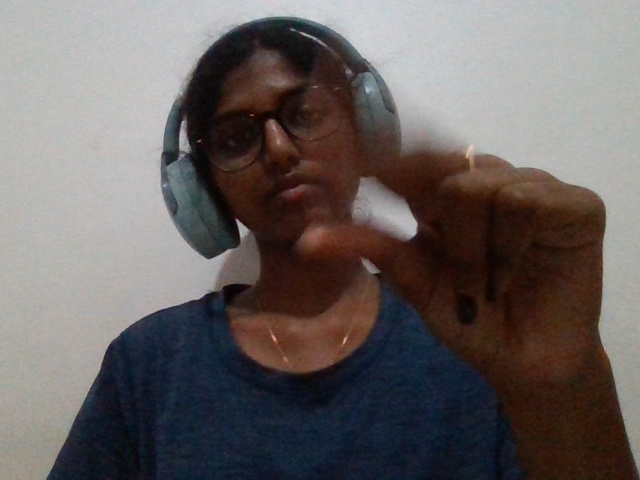No: (281, 68, 640, 458)
